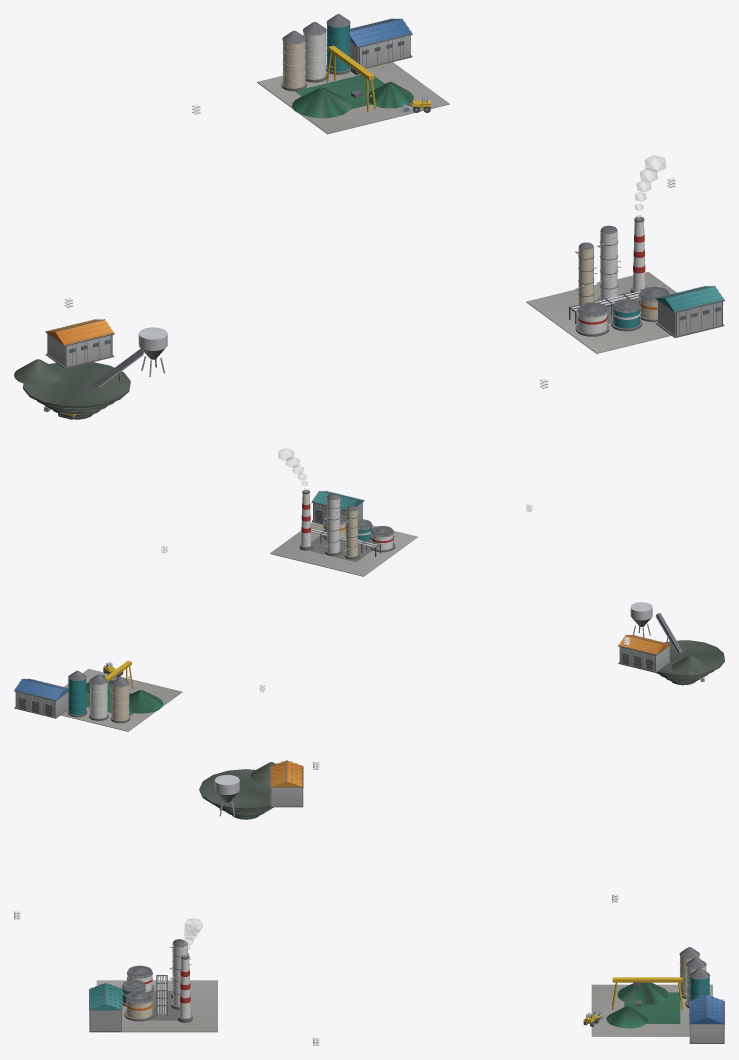
Rendered from Sites_P3.fbx.
The picture shows the model from 3 angles, top to bottom: view 1: azimuth 30°, elevation 25°; view 2: azimuth 150°, elevation 25°; view 3: azimuth 270°, elevation 25°; orthographic projection. The views are drawn at different scales.
Visible parts, largest first — view 1: Site.Store.Yard, Site.Quarry.Benches, Site.Plant.Pad, Site.Plant.Hall, Site.Quarry.Shed, Site.Store.Shed, Site.Plant.Col1, Site.Store.Silo0, Site.Store.Pile0, Site.Store.Silo1, Site.Store.Silo2, Site.Plant.Col0 (+9 smaller); view 2: Site.Plant.Pad, Site.Store.Shed, Site.Store.Yard, Site.Quarry.Benches, Site.Quarry.Shed, Site.Plant.Col1, Site.Store.Silo0, Site.Store.Silo2, Site.Store.Silo1, Site.Plant.Hall, Site.Plant.Col0, Site.Store.Pile0 (+4 smaller); view 3: Site.Store.Yard, Site.Plant.Pad, Site.Quarry.Benches, Site.Store.Shed, Site.Plant.Hall, Site.Quarry.Shed, Site.Store.Pile0, Site.Plant.Tank2, Site.Plant.Stack, Site.Plant.Col1, Site.Store.Pile1, Site.Store.Gantry (+4 smaller).
Boxes of the visible parts, left/top/right/bottom form: Site.Store.Yard: left=257, top=62, right=449, bottom=134; Site.Quarry.Benches: left=23, top=362, right=130, bottom=419; Site.Plant.Pad: left=526, top=271, right=676, bottom=353; Site.Plant.Hall: left=655, top=285, right=724, bottom=337; Site.Quarry.Shed: left=45, top=318, right=114, bottom=368; Site.Store.Shed: left=350, top=18, right=412, bottom=68; Site.Plant.Col1: left=596, top=225, right=621, bottom=306; Site.Store.Silo0: left=281, top=30, right=306, bottom=91; Site.Store.Pile0: left=292, top=87, right=351, bottom=118; Site.Store.Silo1: left=303, top=22, right=327, bottom=82; Site.Store.Silo2: left=326, top=14, right=350, bottom=74; Site.Plant.Col0: left=574, top=242, right=597, bottom=308; Site.Plant.Pad: left=270, top=522, right=417, bottom=576; Site.Store.Shed: left=14, top=678, right=68, bottom=718; Site.Store.Yard: left=61, top=669, right=182, bottom=731; Site.Quarry.Benches: left=656, top=640, right=724, bottom=685; Site.Quarry.Shed: left=618, top=635, right=671, bottom=672; Site.Plant.Col1: left=324, top=493, right=343, bottom=555; Site.Store.Silo0: left=110, top=676, right=130, bottom=723; Site.Store.Silo2: left=67, top=670, right=87, bottom=717; Site.Store.Silo1: left=89, top=674, right=108, bottom=720; Site.Plant.Hall: left=311, top=490, right=364, bottom=524; Site.Plant.Col0: left=343, top=505, right=360, bottom=559; Site.Store.Pile0: left=129, top=690, right=163, bottom=713; Site.Store.Yard: left=591, top=984, right=712, bottom=1036; Site.Plant.Pad: left=96, top=980, right=217, bottom=1032; Site.Quarry.Benches: left=199, top=769, right=273, bottom=819; Site.Store.Shed: left=689, top=994, right=724, bottom=1043; Site.Plant.Hall: left=89, top=982, right=122, bottom=1032; Site.Quarry.Shed: left=270, top=760, right=303, bottom=807; Site.Store.Pile0: left=617, top=982, right=668, bottom=1005; Site.Plant.Tank2: left=124, top=991, right=154, bottom=1021; Site.Plant.Stack: left=178, top=954, right=192, bottom=1022; Site.Plant.Col1: left=169, top=940, right=191, bottom=1009; Site.Store.Pile1: left=606, top=1006, right=648, bottom=1028; Site.Store.Gantry: left=612, top=977, right=683, bottom=1009.
Bounding box in the file's own units: 29134 × 5914 × 30443.
